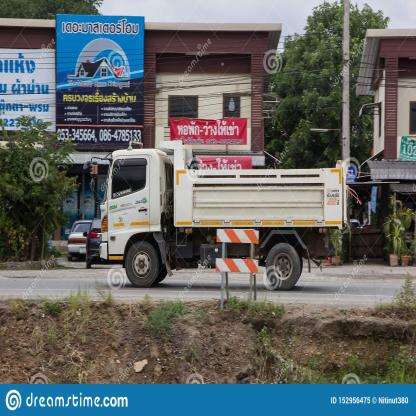dump_truck: (75, 140, 354, 300)
